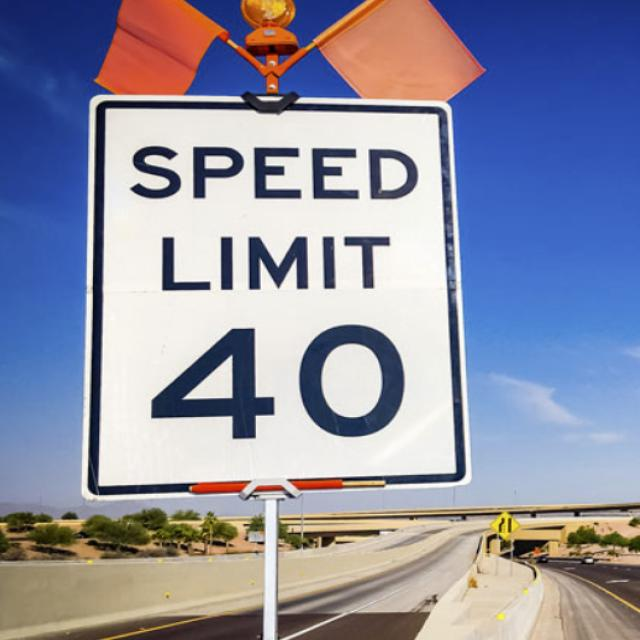speedLimit40: (94, 110, 447, 490)
